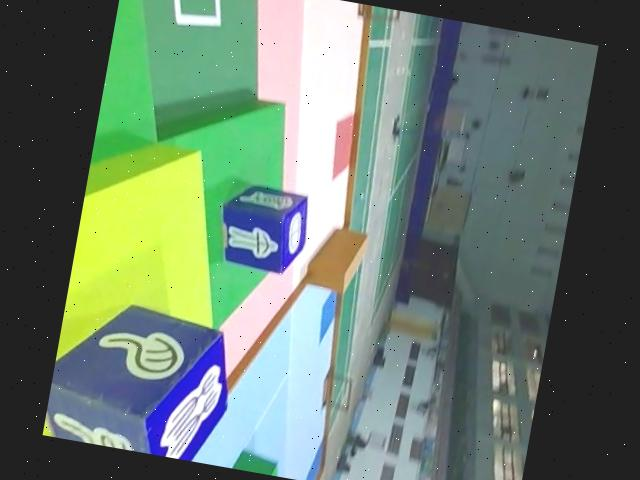R2 Fake Blue: (42, 294, 246, 466), (217, 180, 315, 276)
